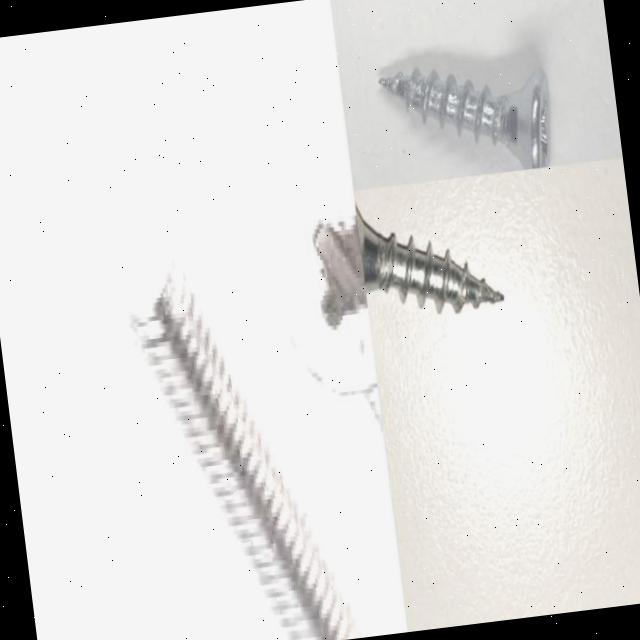Screw: (114, 221, 407, 640), (275, 190, 384, 439), (379, 69, 550, 169), (355, 207, 504, 313)
